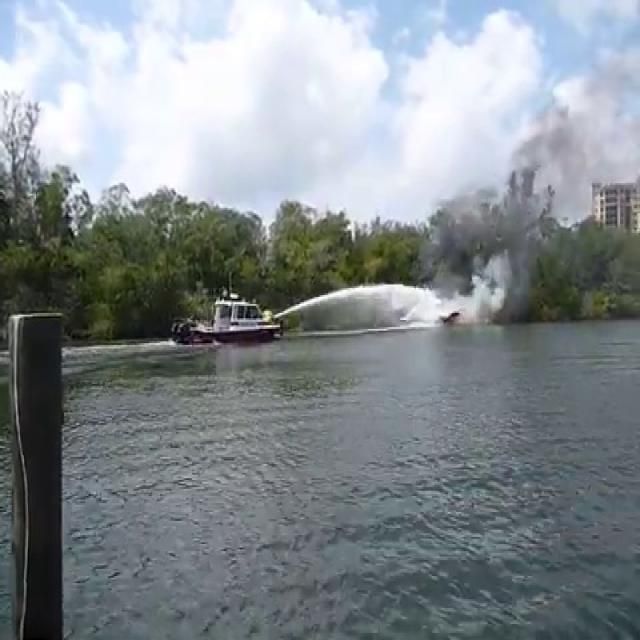Smoke: (423, 28, 640, 334)
